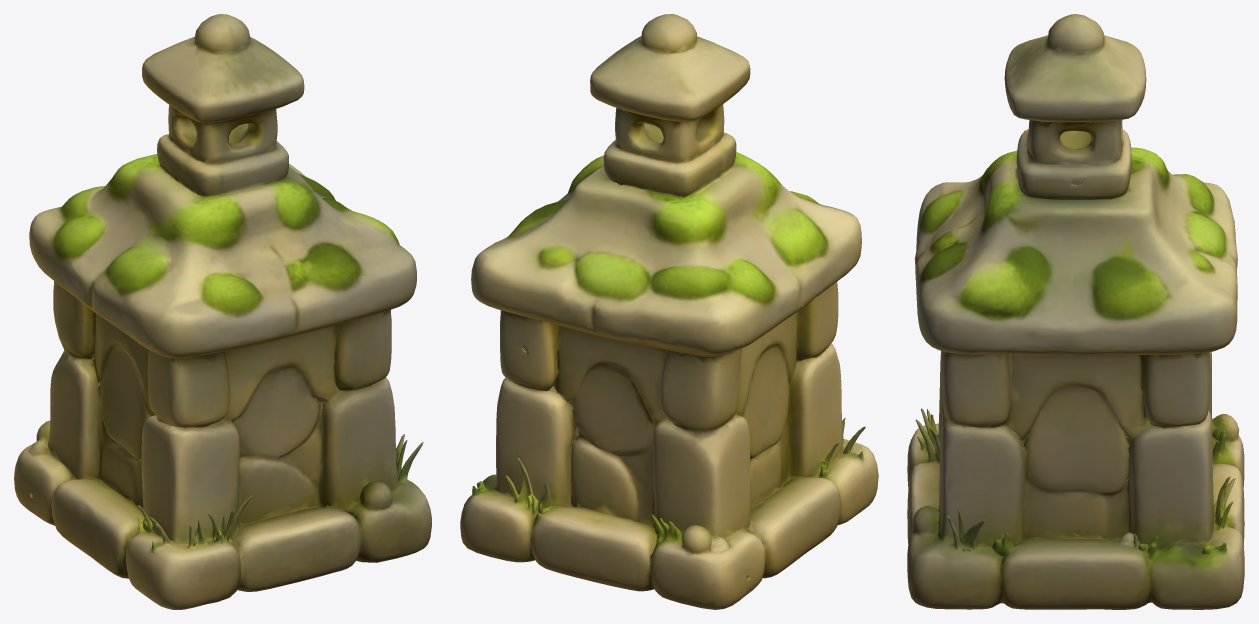
3 views of the same model, side by side, from view 1: azimuth 30°, elevation 25°; view 2: azimuth 150°, elevation 25°; view 3: azimuth 270°, elevation 25° (orthographic). The views are drawn at different scales.
Parts seen in each view (by area): view 1: world; view 2: world; view 3: world.
Part boxes in pixels (x1,y1,x2,y2): world: [14, 14, 431, 609]; world: [460, 14, 878, 609]; world: [907, 14, 1244, 609].
Size of the model in its own units: 0.5731 by 1 by 0.5774.
1 material, 1 textured.
